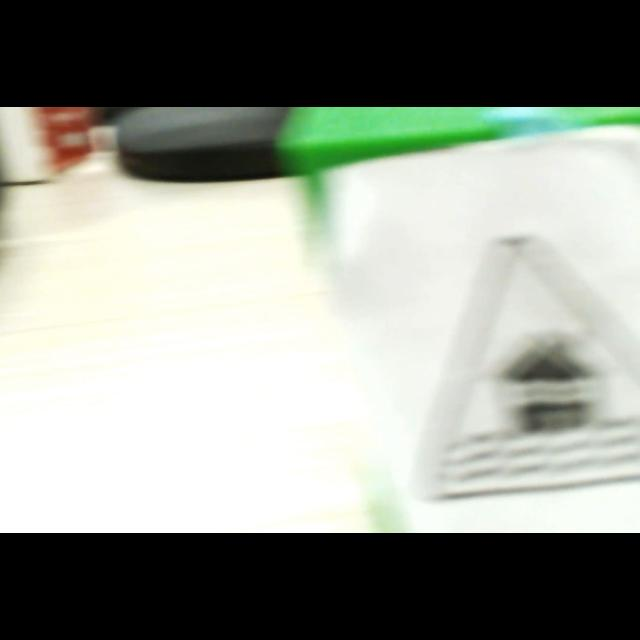Tsunami: (416, 236, 640, 498)
